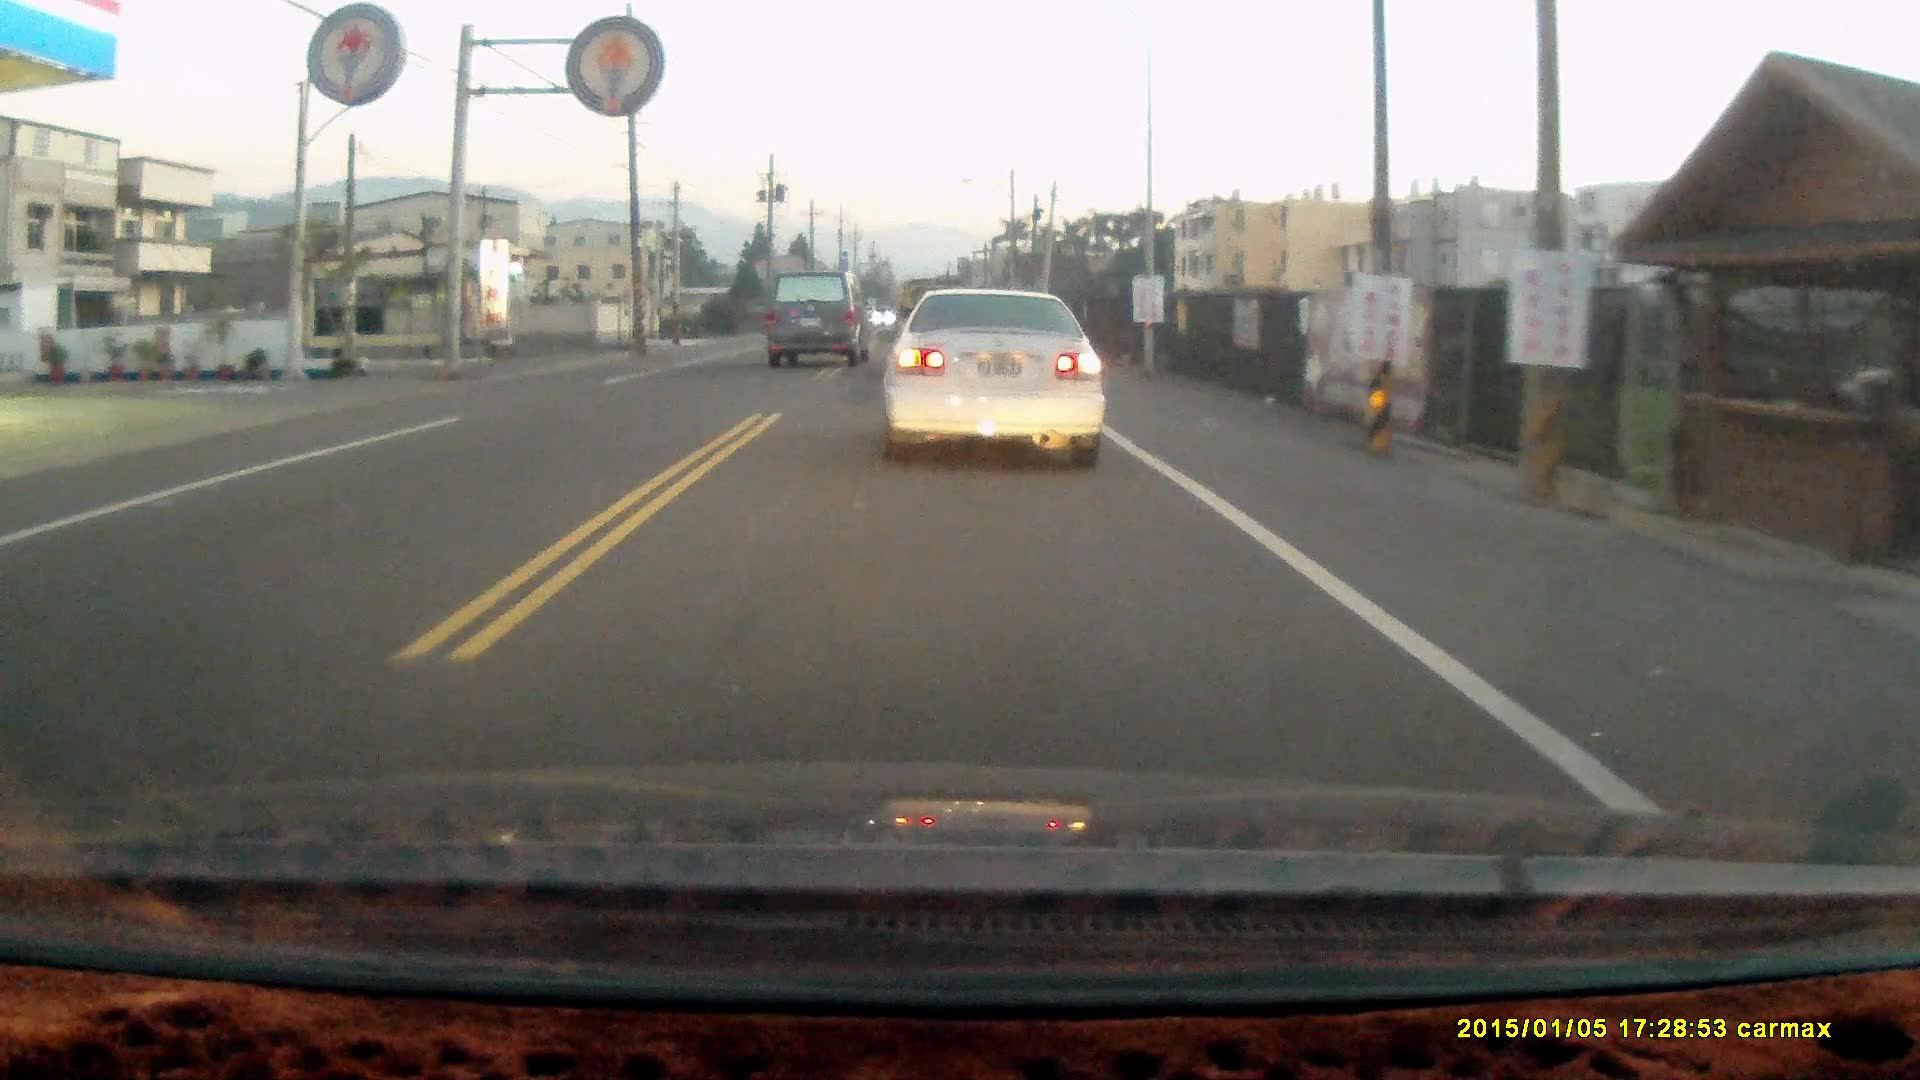pedestrian: (1858, 366, 1917, 497)
vehicle: (877, 283, 1109, 471), (757, 270, 873, 375)
